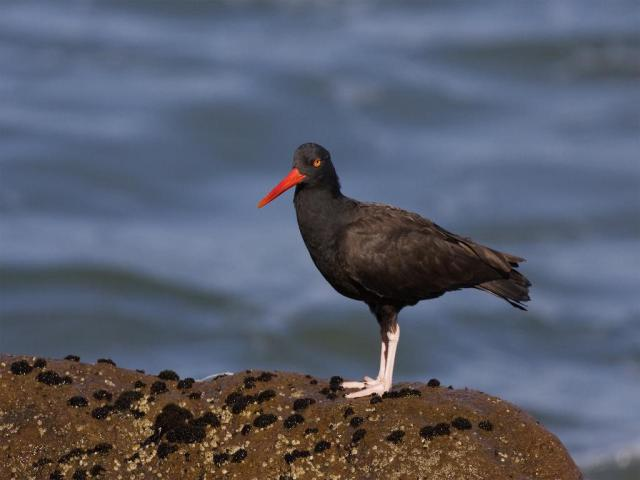Bird: (260, 140, 538, 396)
